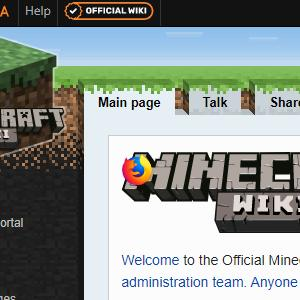firefox: (121, 153, 152, 185)
